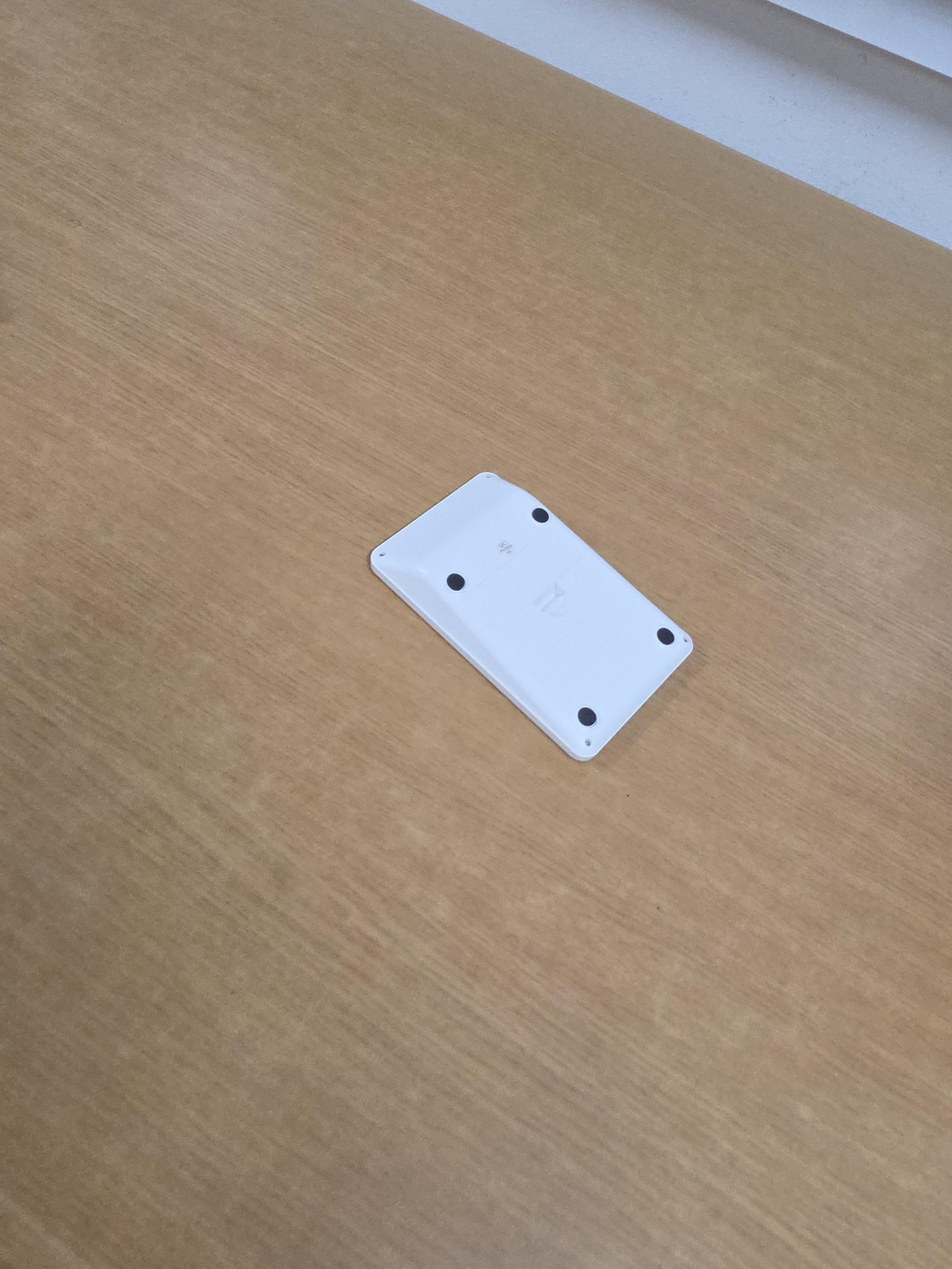calculator: (369, 471, 694, 761)
